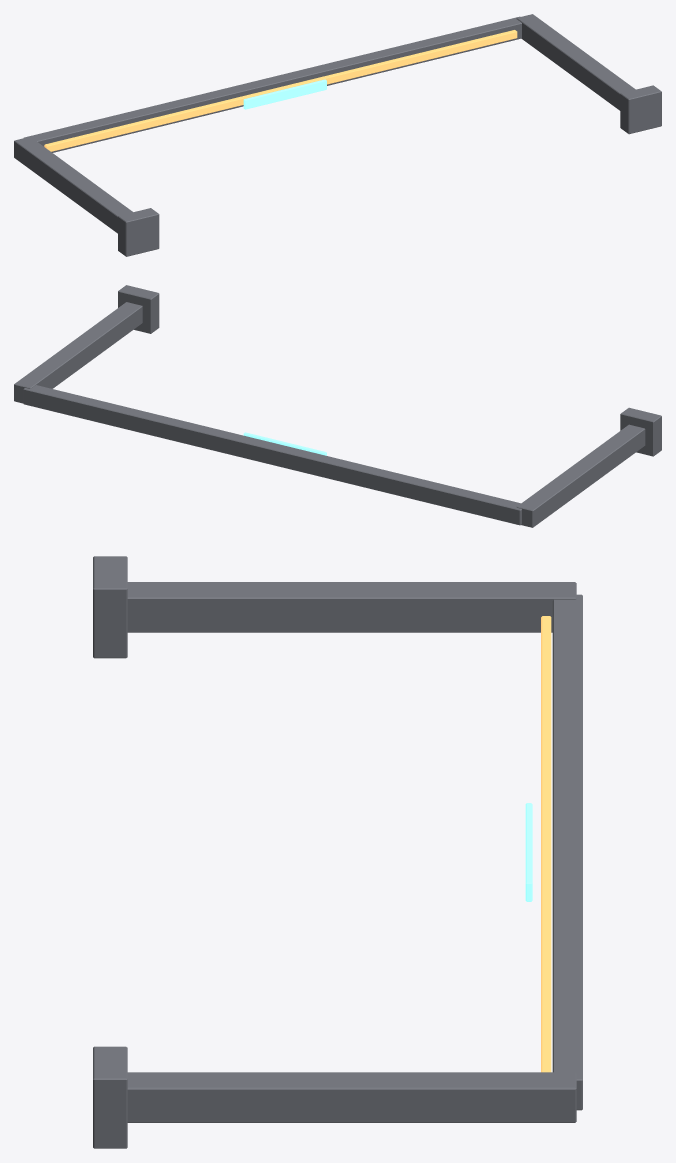
The model's file is arch_gate.glb.
The picture shows the model from 3 angles, top to bottom: view 1: azimuth 30°, elevation 25°; view 2: azimuth 150°, elevation 25°; view 3: azimuth 270°, elevation 25°; orthographic projection. The views are drawn at different scales.
Visible parts, largest first — view 1: FlightKit_ArchGate; view 2: FlightKit_ArchGate; view 3: FlightKit_ArchGate.
Boxes of the visible parts, bbox=[...] form: FlightKit_ArchGate: bbox=[14, 14, 661, 256]; FlightKit_ArchGate: bbox=[14, 285, 661, 527]; FlightKit_ArchGate: bbox=[93, 556, 582, 1148].
Size of the model in its own units: 14.34 by 0.9 by 5.68.
